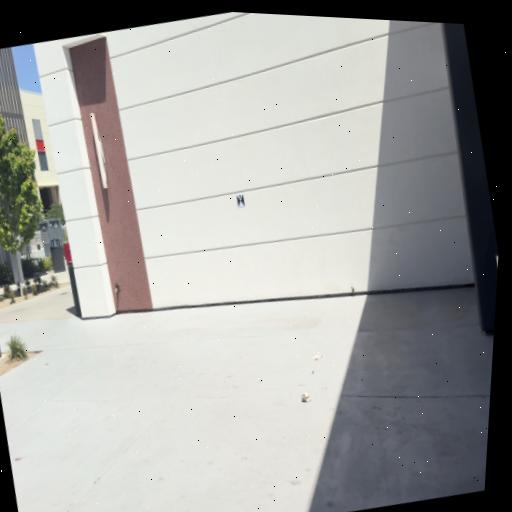target0: (236, 192, 245, 209)
